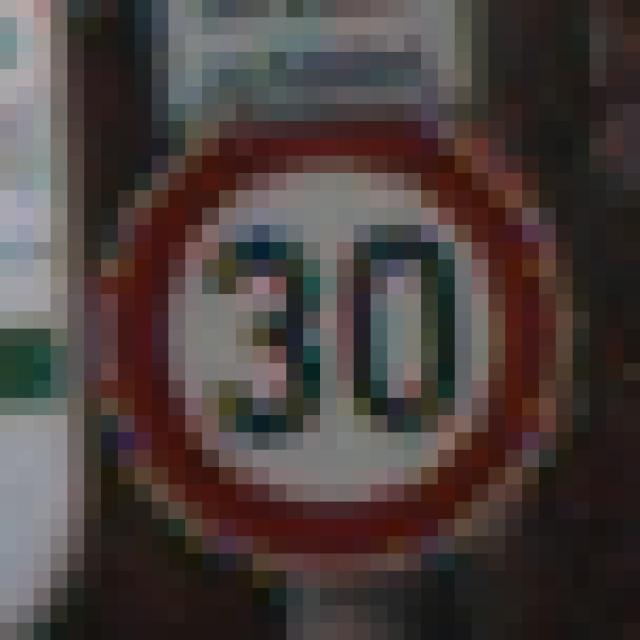Speed Limit -30-: (76, 78, 530, 545)
